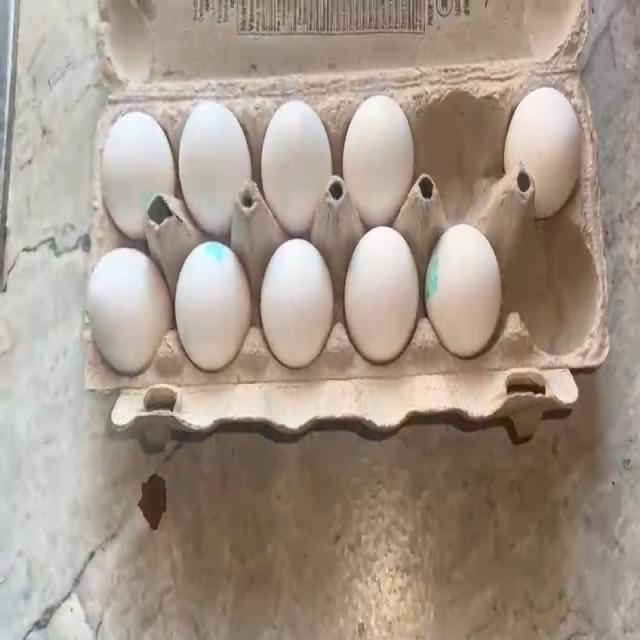Egg: (506, 94, 581, 202), (98, 104, 172, 208), (180, 248, 243, 368), (92, 254, 160, 364), (347, 106, 418, 210), (434, 238, 498, 344), (186, 105, 248, 212), (266, 114, 330, 206)
